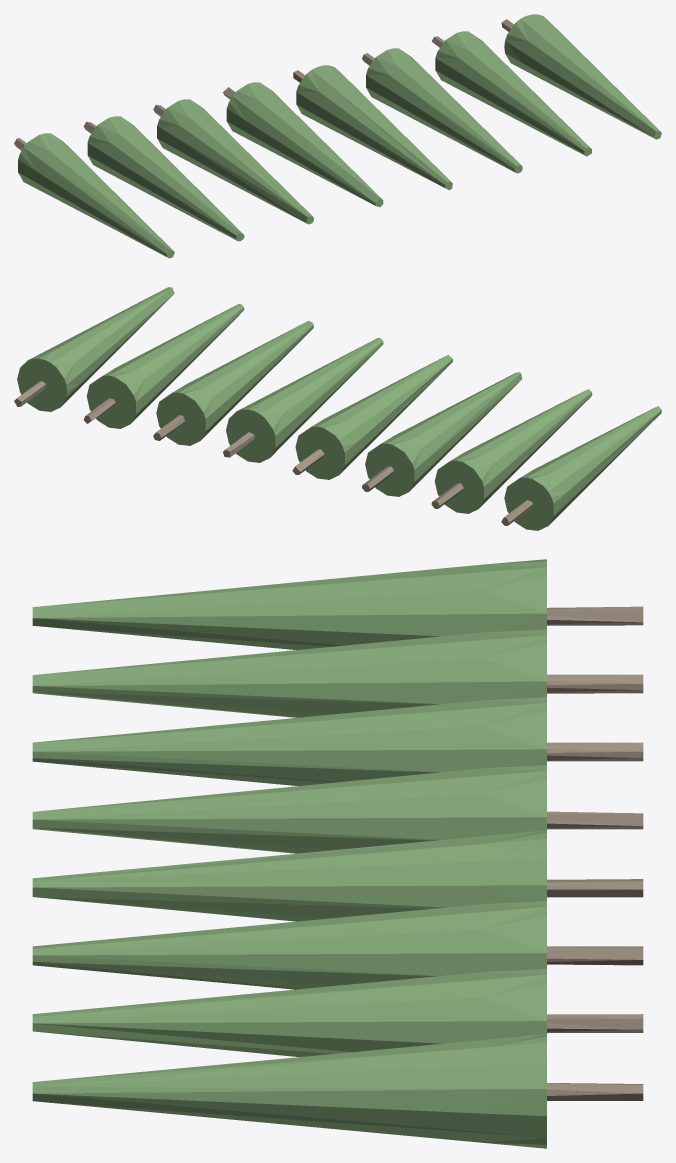
The model's file is r-149-twente-poplar-row.lod1.glb.
3 renders of one model, top to bottom at view 1: azimuth 30°, elevation 25°; view 2: azimuth 150°, elevation 25°; view 3: azimuth 270°, elevation 25°, orthographic. The views are drawn at different scales.
Visible parts, largest first — view 1: foliage, trunks; view 2: foliage, trunks; view 3: foliage, trunks.
Part boxes in pixels (left/top/right/bottom): foliage: left=18, top=14, right=661, bottom=258; trunks: left=14, top=19, right=513, bottom=150; foliage: left=17, top=287, right=661, bottom=530; trunks: left=14, top=381, right=532, bottom=525; foliage: left=32, top=559, right=546, bottom=1148; trunks: left=547, top=606, right=643, bottom=1100.
Bounding box in the file's own units: 38548 × 3572 × 18999.
